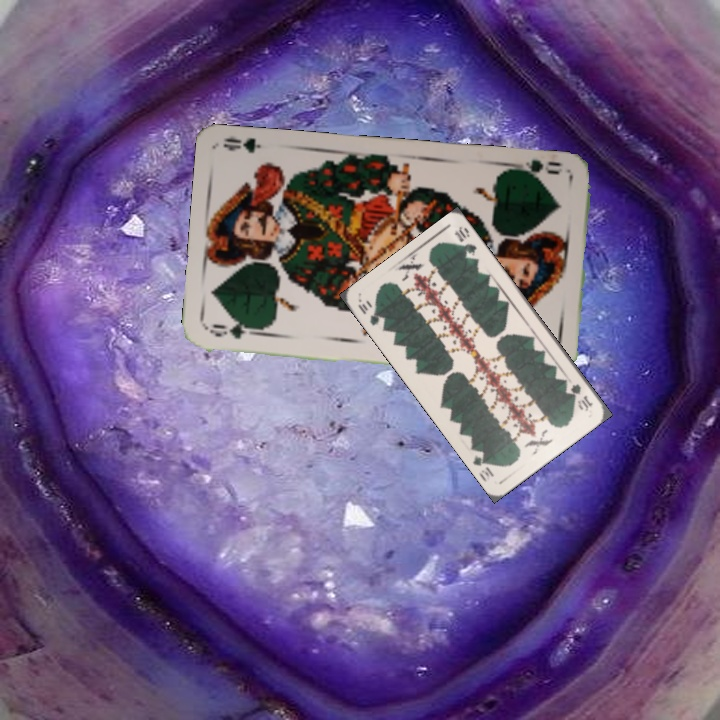G10: (566, 380, 595, 414), (353, 297, 384, 328)
GO: (509, 156, 566, 183), (206, 319, 265, 342)
